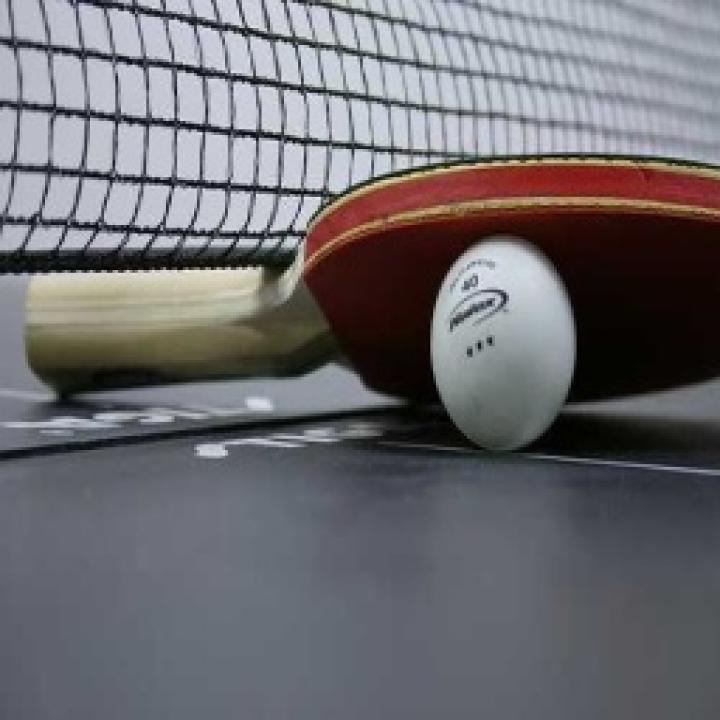white: (432, 233, 576, 450)
